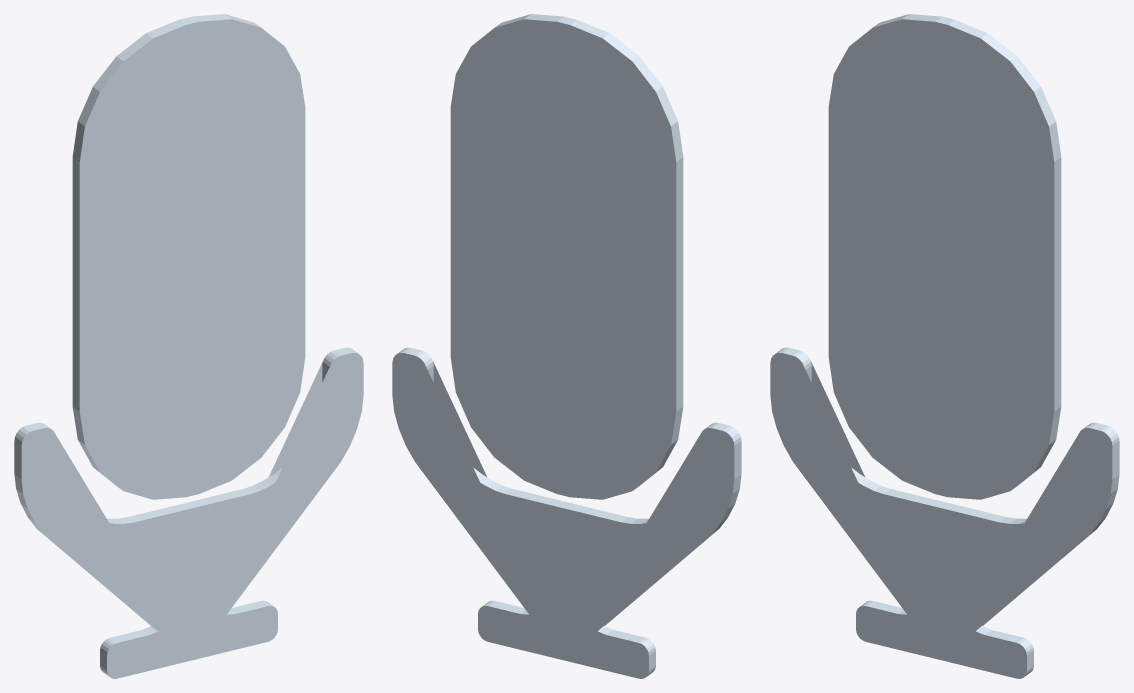
File: Mic_3D_Icon.fbx
The picture shows the model from 3 angles, left to right: view 1: azimuth 30°, elevation 25°; view 2: azimuth 150°, elevation 25°; view 3: azimuth 330°, elevation 25°; orthographic projection.
Parts seen in each view (by area): view 1: Mic_3D_Icon_01; view 2: Mic_3D_Icon_01; view 3: Mic_3D_Icon_01.
Boxes of the visible parts, x1=… form: Mic_3D_Icon_01: x1=14, y1=14, x2=363, y2=678; Mic_3D_Icon_01: x1=392, y1=14, x2=741, y2=678; Mic_3D_Icon_01: x1=770, y1=14, x2=1119, y2=678.
Size of the model in its own units: 55.44 by 98.68 by 2.
